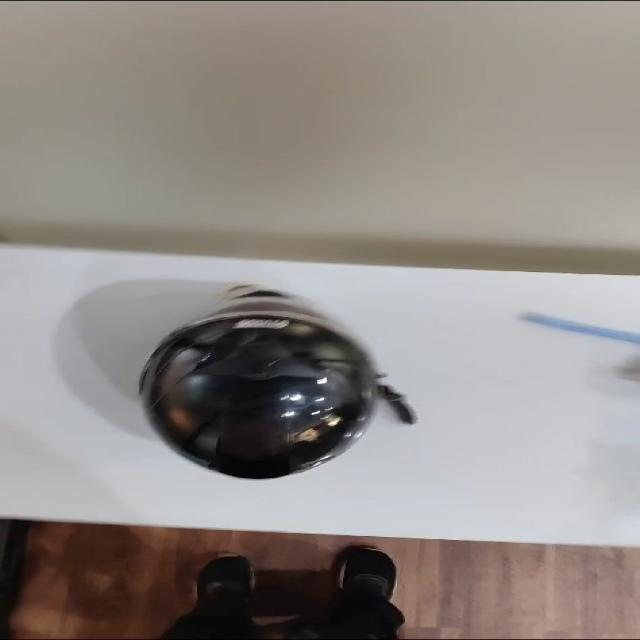helmet: (133, 282, 418, 487)
